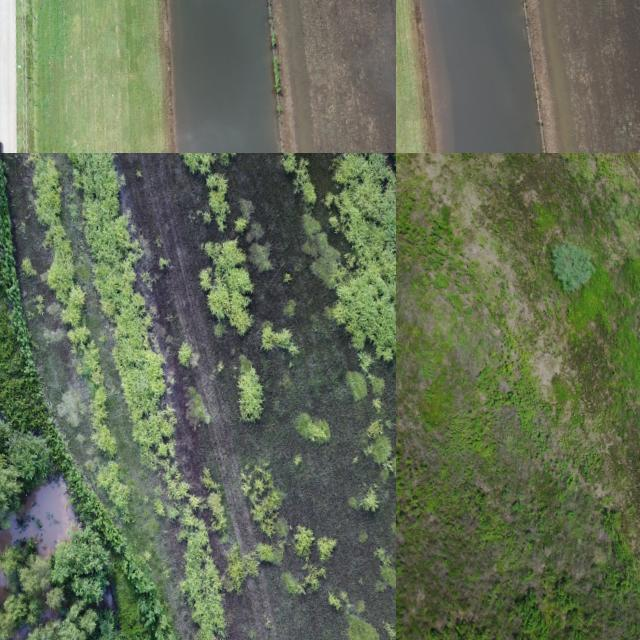fire: (421, 0, 542, 153), (169, 0, 280, 153), (7, 482, 74, 554)
